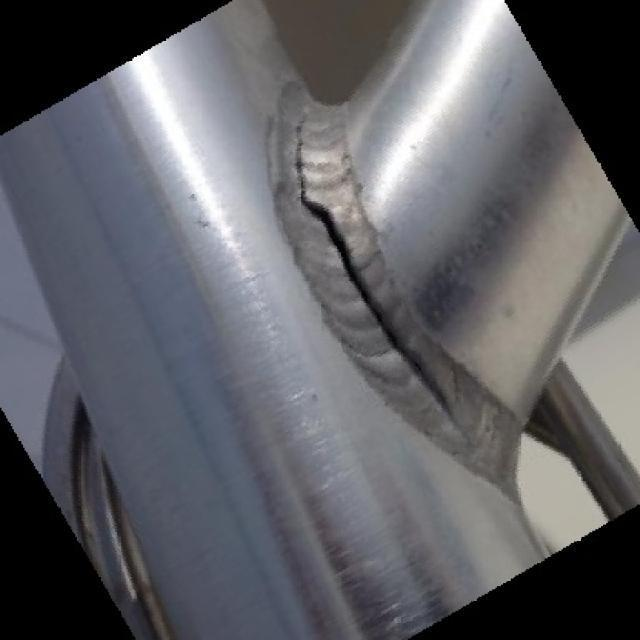crack: (408, 359, 453, 416), (377, 302, 410, 365), (337, 239, 366, 304), (294, 106, 308, 206), (310, 205, 339, 236)
